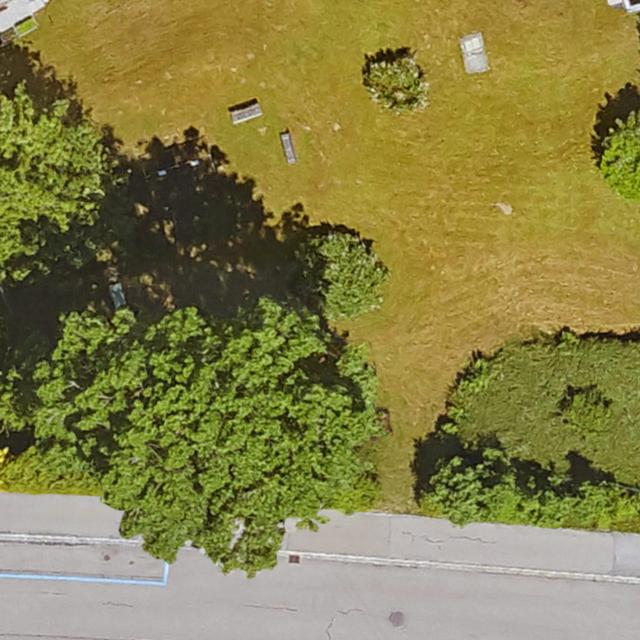tree: (32, 297, 374, 560), (0, 89, 108, 281), (424, 454, 529, 522), (303, 238, 386, 312), (597, 107, 640, 202), (364, 56, 424, 112), (581, 477, 631, 525)
